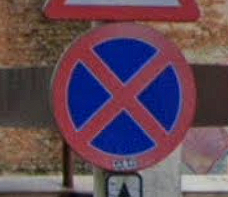oprirea_interzisa: (49, 22, 197, 172)
